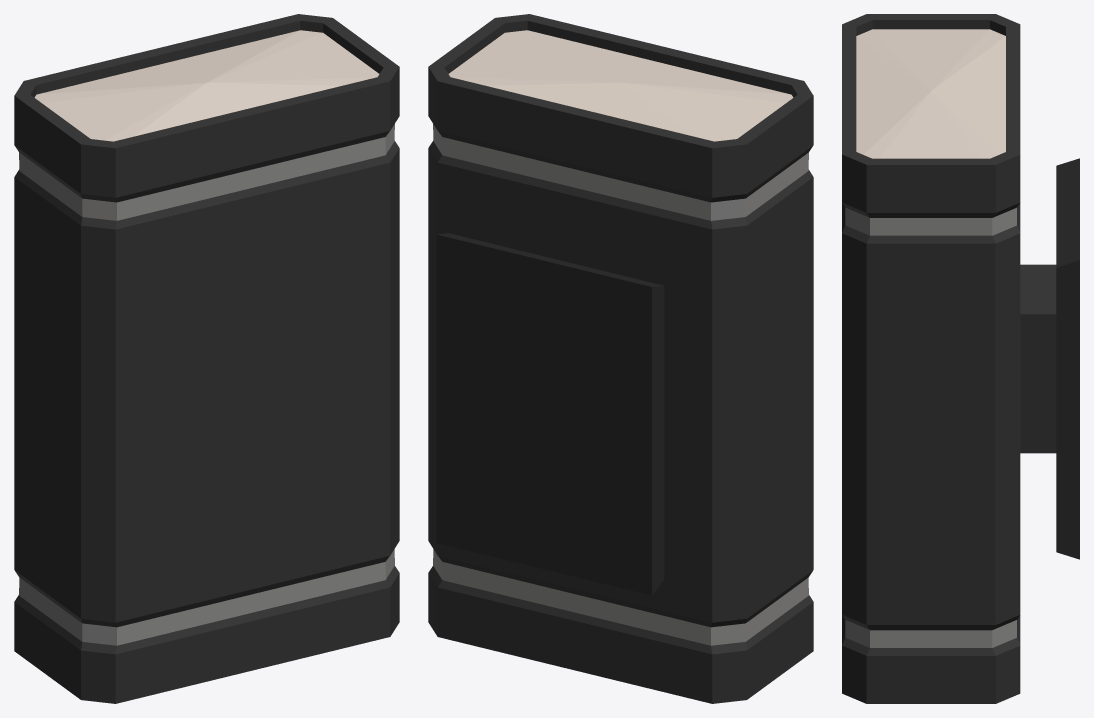
The model's file is SM_Props_Interior_Shop_Light_WallLight_03.fbx.
The picture shows the model from 3 angles, left to right: view 1: azimuth 30°, elevation 25°; view 2: azimuth 150°, elevation 25°; view 3: azimuth 270°, elevation 25°; orthographic projection. The views are drawn at different scales.
Parts seen in each view (by area): view 1: SM_Props_Interior_Shop_Light_WallLight_03; view 2: SM_Props_Interior_Shop_Light_WallLight_03; view 3: SM_Props_Interior_Shop_Light_WallLight_03.
Boxes of the visible parts, x1,y1,x2,y2 form: SM_Props_Interior_Shop_Light_WallLight_03: [14, 14, 399, 703]; SM_Props_Interior_Shop_Light_WallLight_03: [428, 14, 813, 703]; SM_Props_Interior_Shop_Light_WallLight_03: [842, 14, 1079, 703].
Size of the model in its own units: 30 by 50 by 20.
